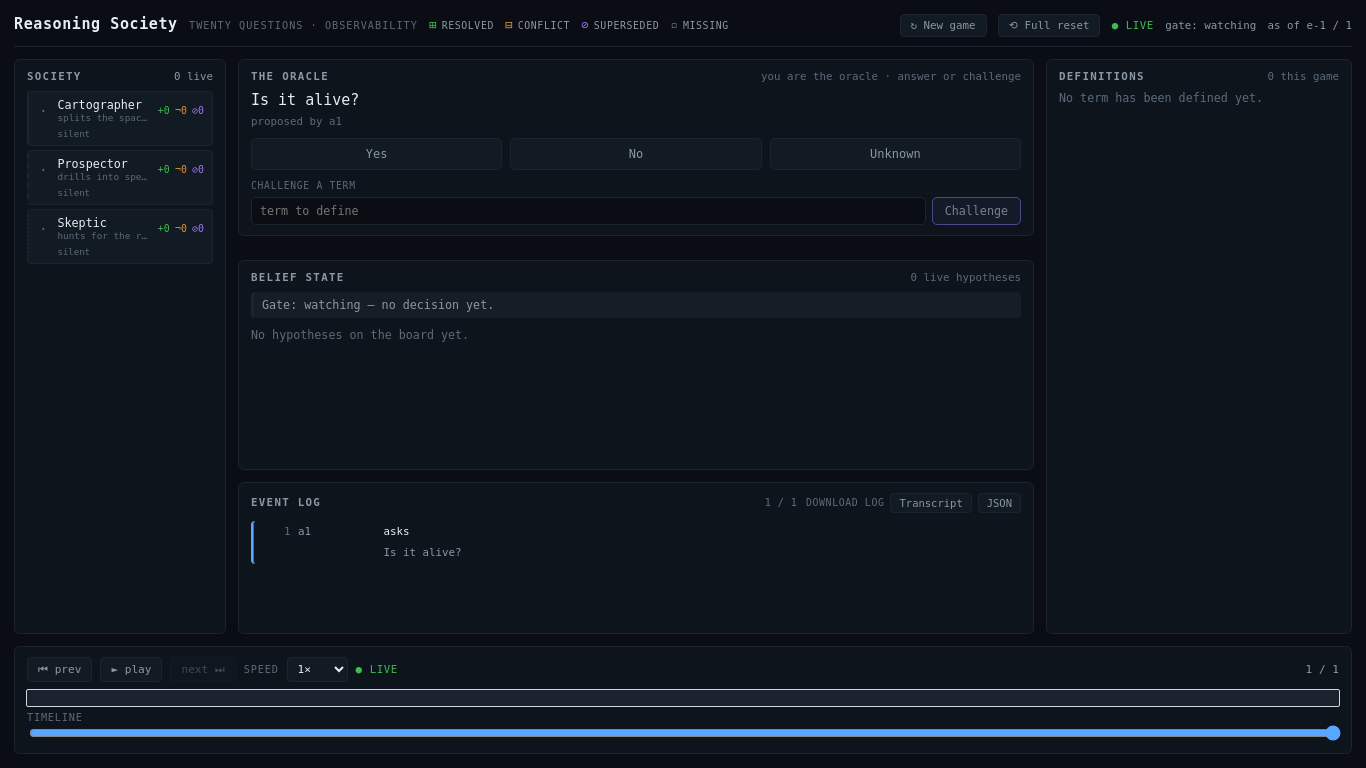
it: App (live backend) › Full reset requires a confirm, then POSTs /reset and reconnects the stream
Step 1. Click the button "⟲ Full reset" → click(1049, 26), box [998,14,1100,37]
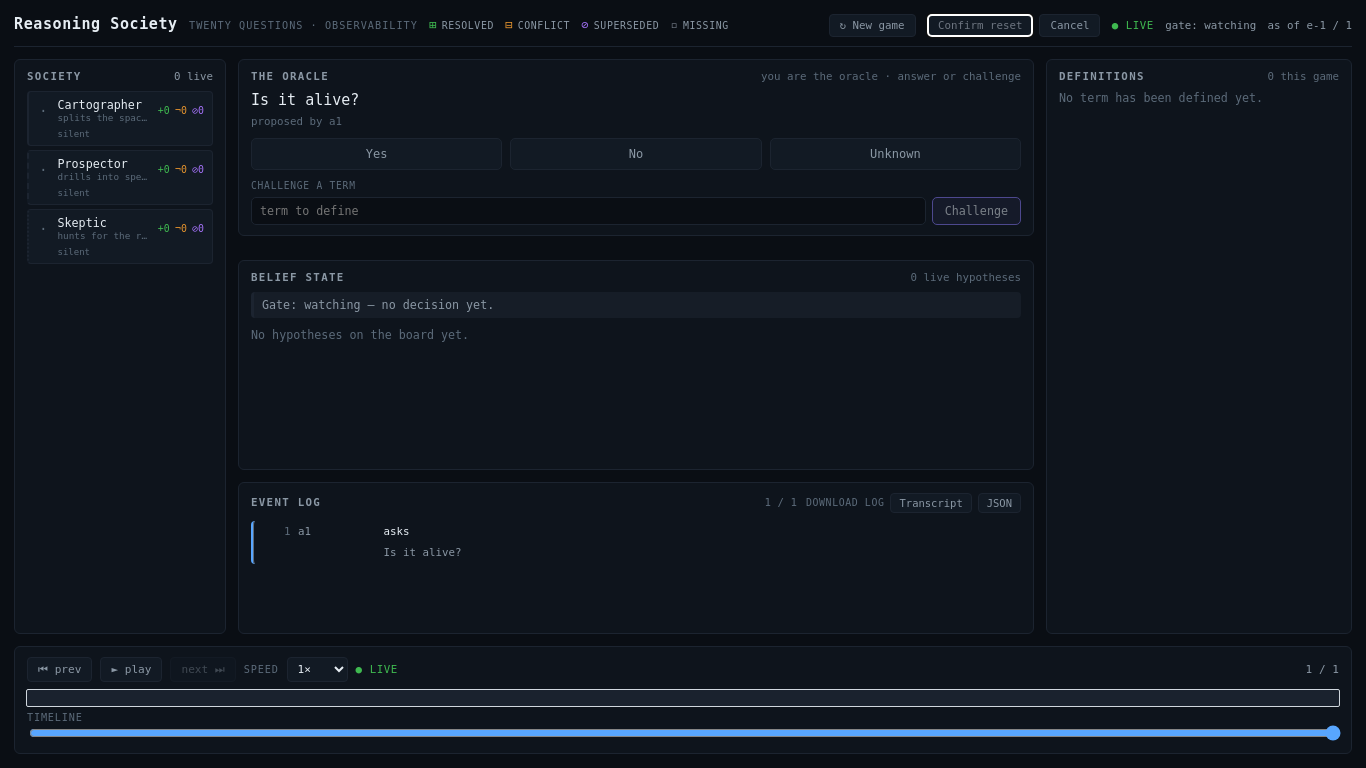
Note: Confirm → the reset is requested over POST /reset.
Step 2. Click the button "Confirm reset" → click(980, 26), box [927,14,1033,37]
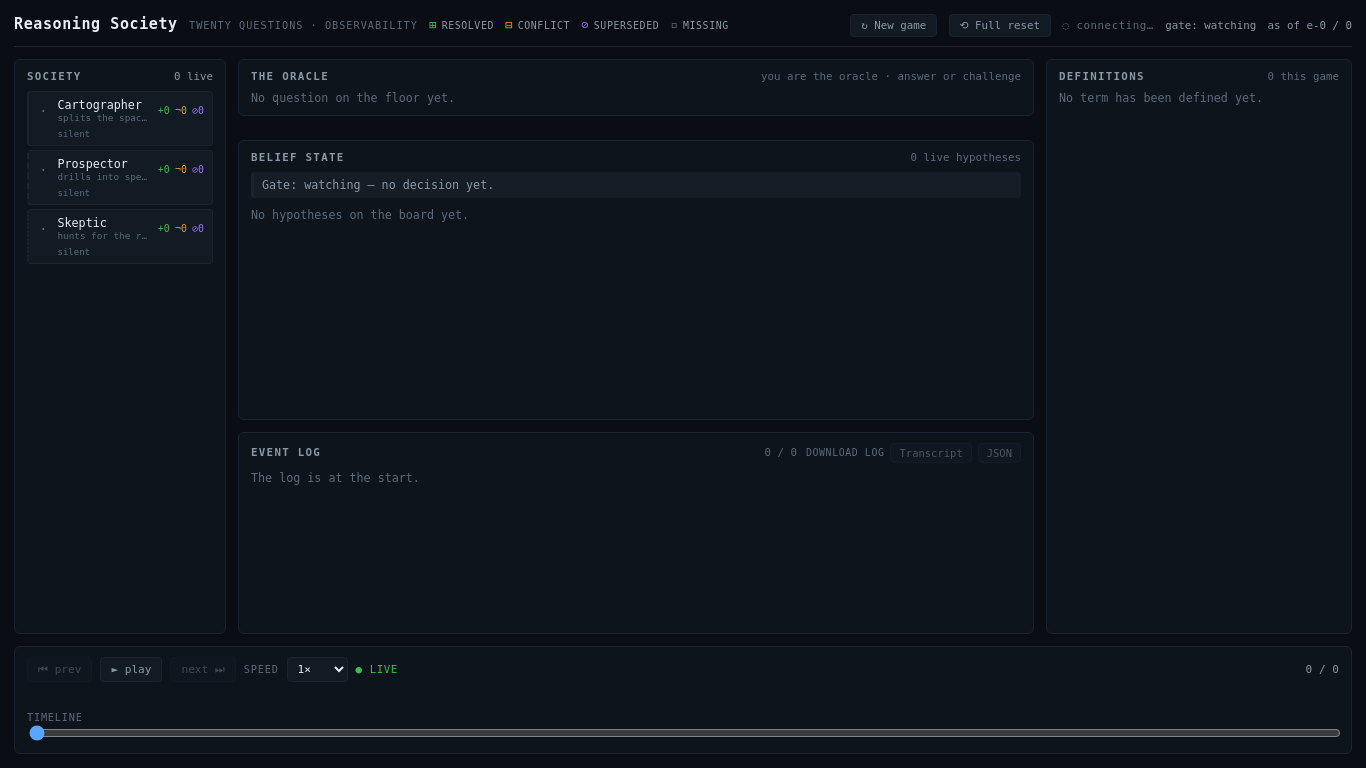
Expected: the text "Is it alive?" is gone
